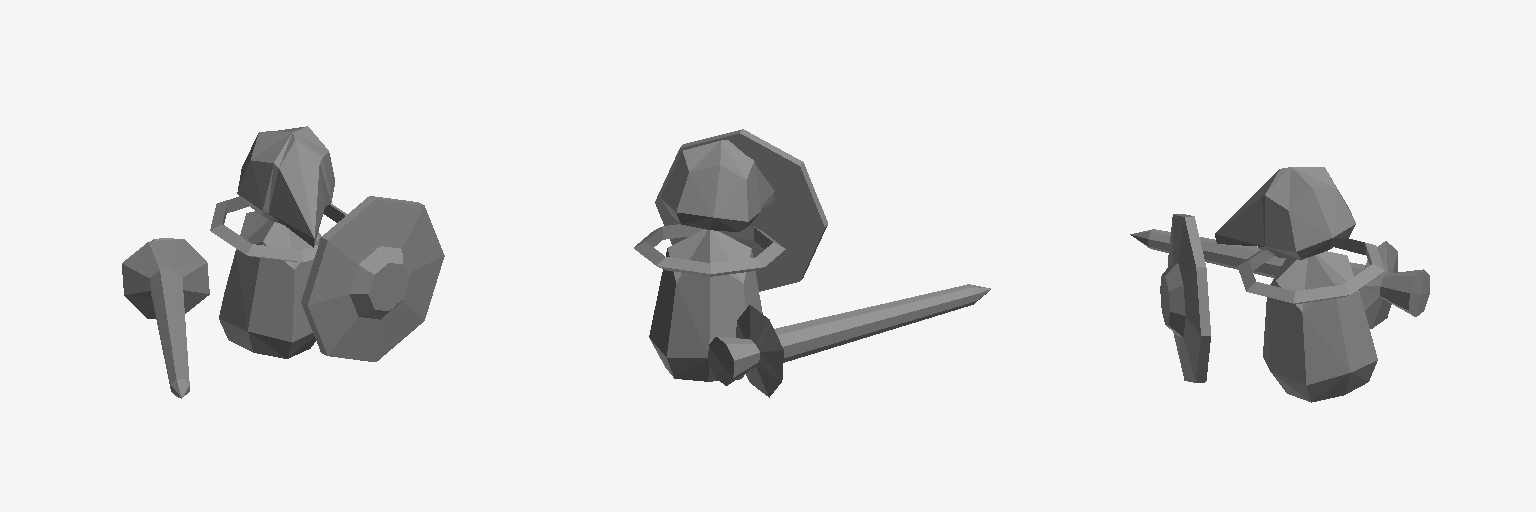
3 views of the same model, side by side, from view 1: azimuth 30°, elevation 25°; view 2: azimuth 150°, elevation 25°; view 3: azimuth 270°, elevation 25° (orthographic).
Visible parts, largest first — view 1: meshMinion; view 2: meshMinion; view 3: meshMinion.
Boxes of the visible parts, x1,y1,x2,y2 form: meshMinion: [122, 126, 444, 398]; meshMinion: [634, 129, 990, 397]; meshMinion: [1130, 167, 1429, 402].
Size of the model in its own units: 144 by 101 by 126.